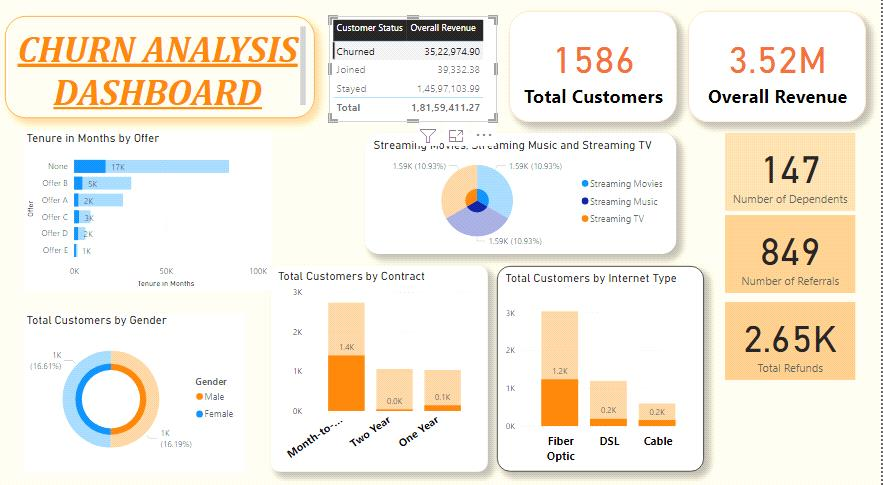

Layout of this report page (visuals, bound fields, positions):
{"tool":"powerbi","page":{"name":"Page 1","canvas":[1280,720],"ordinal":0},"visuals":[{"type":"card","fields":{"Values":["telecom_customer_churnproj.Overall Revenue"]},"box":[1000.8,19.1,258.4,161.3],"z":0},{"type":"card","fields":{"Values":["telecom_customer_churnproj.Total Customers"]},"box":[740.6,19.1,242.8,161.3],"z":4000},{"type":"columnChart","fields":{"Category":["telecom_customer_churnproj.Contract"],"Y":["telecom_customer_churnproj.Total Customers"]},"box":[395.4,388.5,313.9,298.3],"z":4001},{"type":"columnChart","fields":{"Y":["telecom_customer_churnproj.Total Customers"],"Category":["telecom_customer_churnproj.Internet Type"]},"box":[723.3,388.5,300.1,298.3],"z":4002},{"type":"tableEx","fields":{"Values":["telecom_customer_churnproj.Customer Status","telecom_customer_churnproj.Overall Revenue"]},"box":[480.4,26,242.8,154.4],"z":4003},{"type":"donutChart","fields":{"Category":["telecom_customer_churnproj.Gender"],"Y":["telecom_customer_churnproj.Total Customers"]},"box":[36.4,456.2,320.9,230.7],"z":4004},{"type":"barChart","fields":{"Category":["telecom_customer_churnproj.Offer"],"Y":["Sum(telecom_customer_churnproj.Tenure in Months)"]},"box":[36.4,192.5,359,230.7],"z":4005},{"type":"pieChart","fields":{"Y":["CountNonNull(telecom_customer_churnproj.Streaming Movies)","CountNonNull(telecom_customer_churnproj.Streaming Music)","CountNonNull(telecom_customer_churnproj.Streaming TV)"]},"box":[532.5,196,450.9,175.2],"z":4006},{"type":"card","fields":{"Values":["Sum(telecom_customer_churnproj.Number of Dependents)"]},"box":[1054.5,196,189.1,112.7],"z":4007},{"type":"card","fields":{"Values":["Sum(telecom_customer_churnproj.Number of Referrals)"]},"box":[1054.5,313.9,189.1,112.7],"z":4008},{"type":"card","fields":{"Values":["Sum(telecom_customer_churnproj.Total Refunds)"]},"box":[1054.5,440.5,189.1,112.7],"z":4009},{"type":"textbox","box":[10.2,26.2,448.5,148],"z":4010}]}

Visuals, with their boxes in screenshot pixels (x1, y1, x2, y2), scaled from the page's 1280x720 canvas onto the 883x485 screenshot:
card - telecom_customer_churnproj.Overall Revenue: [left=690, top=13, right=869, bottom=122]
card - telecom_customer_churnproj.Total Customers: [left=511, top=13, right=678, bottom=122]
columnChart - telecom_customer_churnproj.Contract x telecom_customer_churnproj.Total Customers: [left=273, top=262, right=489, bottom=463]
columnChart - telecom_customer_churnproj.Total Customers x telecom_customer_churnproj.Internet Type: [left=499, top=262, right=706, bottom=463]
tableEx - telecom_customer_churnproj.Customer Status x telecom_customer_churnproj.Overall Revenue: [left=331, top=18, right=499, bottom=122]
donutChart - telecom_customer_churnproj.Gender x telecom_customer_churnproj.Total Customers: [left=25, top=307, right=246, bottom=463]
barChart - telecom_customer_churnproj.Offer x Sum(telecom_customer_churnproj.Tenure in Months): [left=25, top=130, right=273, bottom=285]
pieChart - CountNonNull(telecom_customer_churnproj.Streaming Movies) x CountNonNull(telecom_customer_churnproj.Streaming Music): [left=367, top=132, right=678, bottom=250]
card - Sum(telecom_customer_churnproj.Number of Dependents): [left=727, top=132, right=858, bottom=208]
card - Sum(telecom_customer_churnproj.Number of Referrals): [left=727, top=211, right=858, bottom=287]
card - Sum(telecom_customer_churnproj.Total Refunds): [left=727, top=297, right=858, bottom=373]
textbox: [left=7, top=18, right=316, bottom=117]
